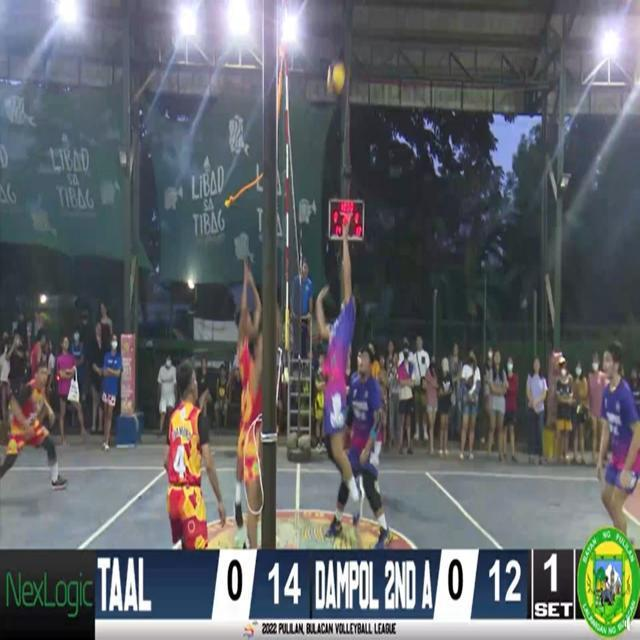volleyball: (326, 62, 344, 94)
